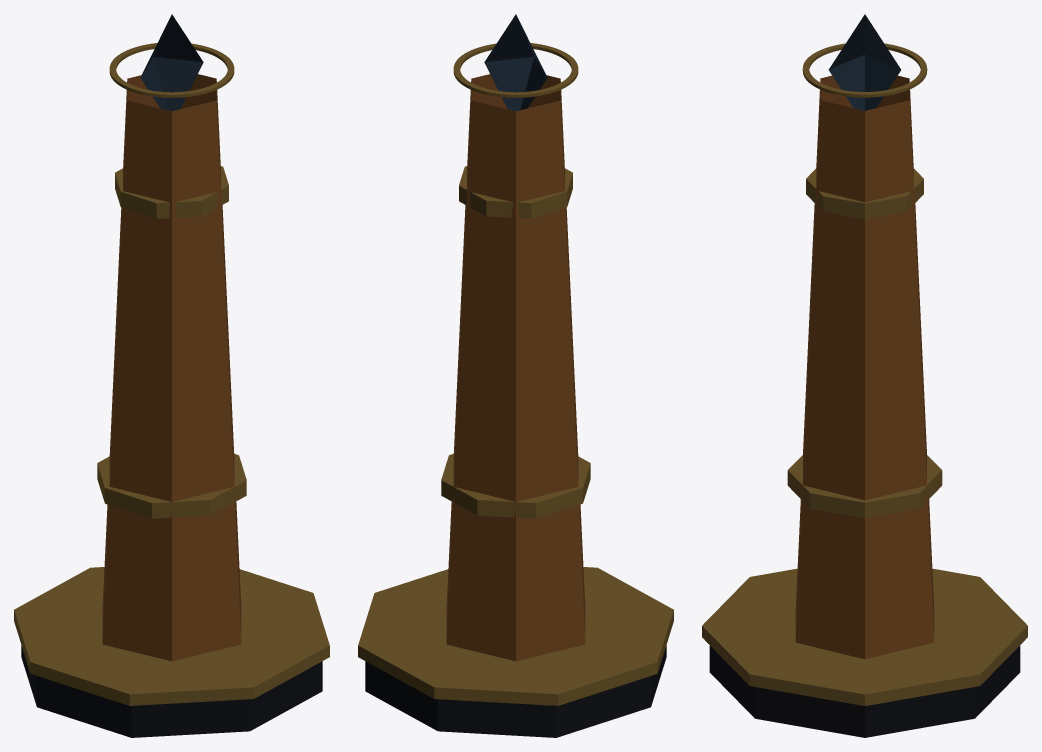
Rendered from vmt_phase_a_perimeter_pylon_dormant.obj.
3 views of the same model, side by side, from view 1: azimuth 30°, elevation 25°; view 2: azimuth 150°, elevation 25°; view 3: azimuth 270°, elevation 25° (orthographic).
Parts seen in each view (by area): view 1: VMT_PhaseA_PerimeterPylon_Dormant; view 2: VMT_PhaseA_PerimeterPylon_Dormant; view 3: VMT_PhaseA_PerimeterPylon_Dormant.
Part boxes in pixels (x1,y1,x2,y2): VMT_PhaseA_PerimeterPylon_Dormant: (14, 14, 329, 737); VMT_PhaseA_PerimeterPylon_Dormant: (358, 14, 673, 737); VMT_PhaseA_PerimeterPylon_Dormant: (702, 14, 1027, 737).
Bounding box in the file's own units: 3.04 × 6.78 × 3.04.
